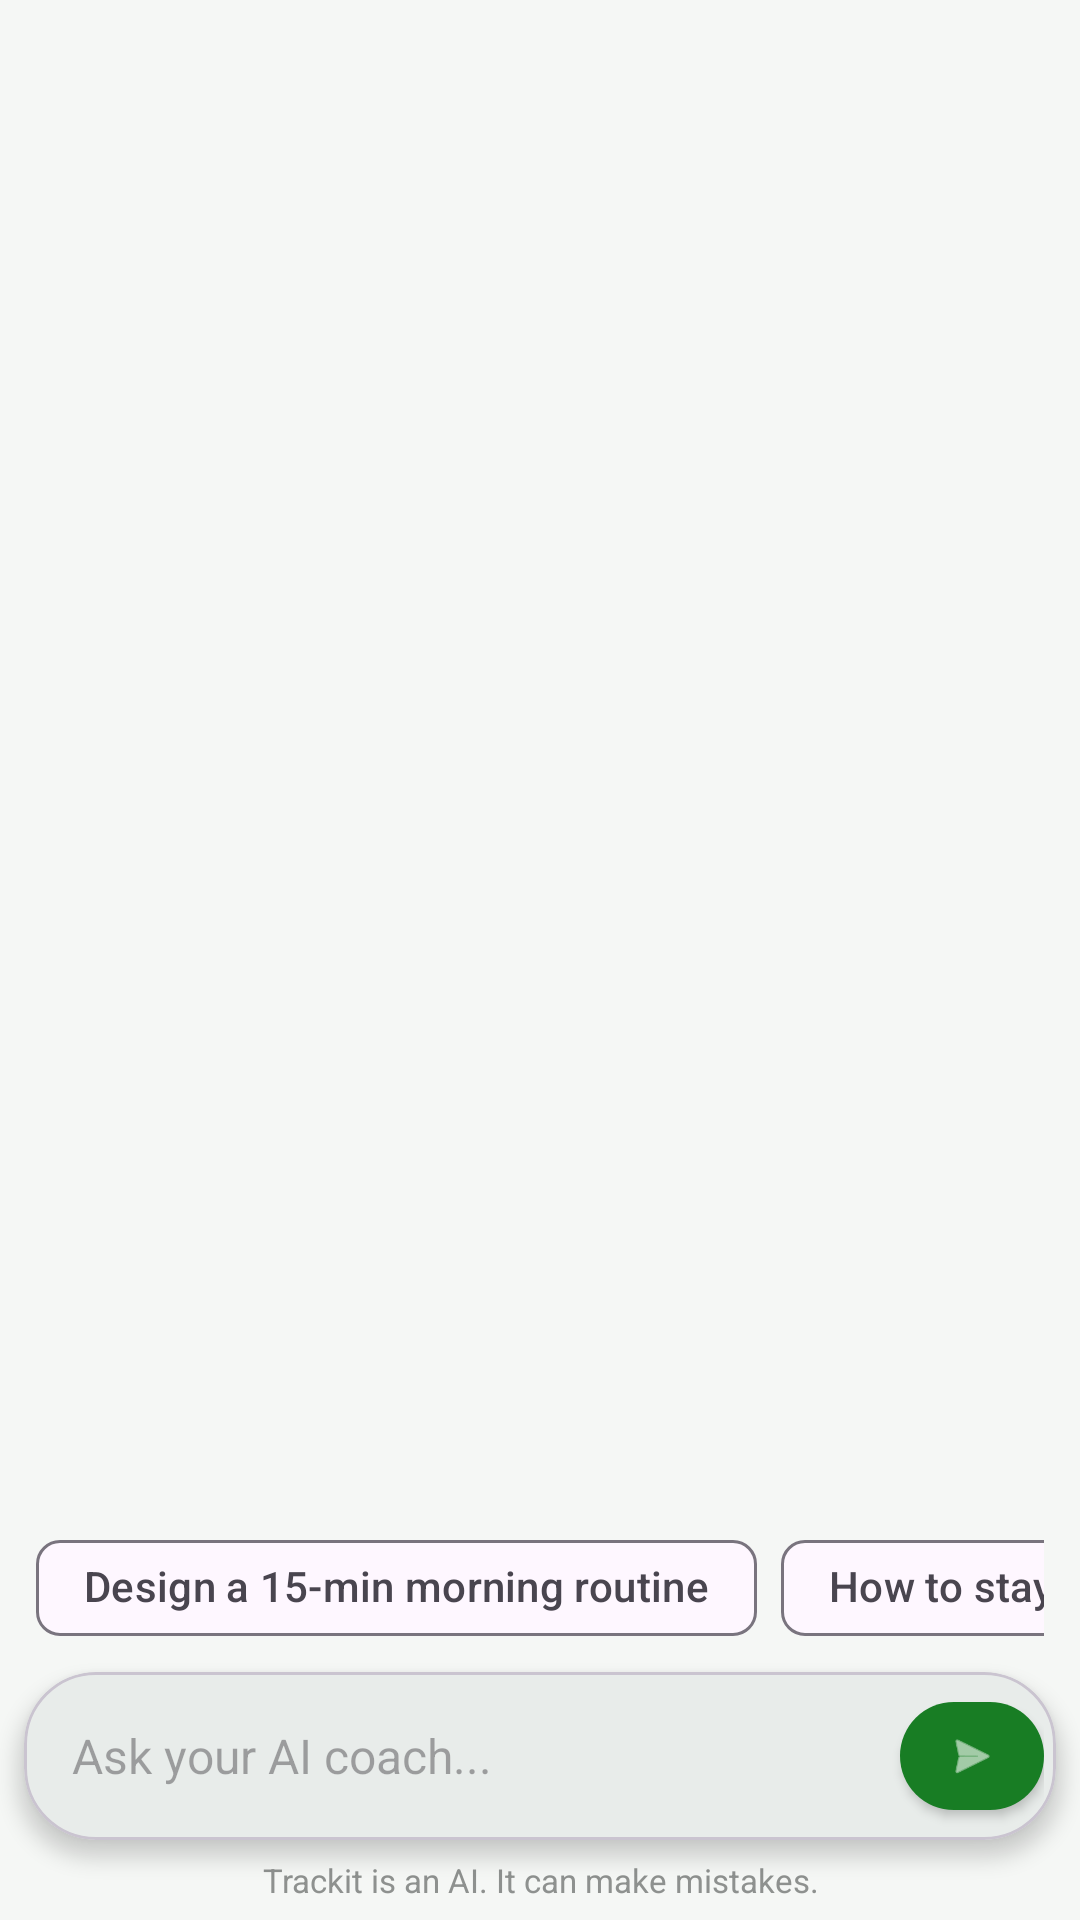

Icon click points for this 1080x1920 phone screenshot, format (x,y):
send: (972,1758)
